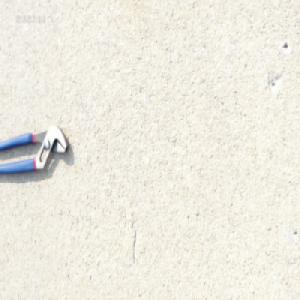Pliers: (0, 123, 68, 177)
